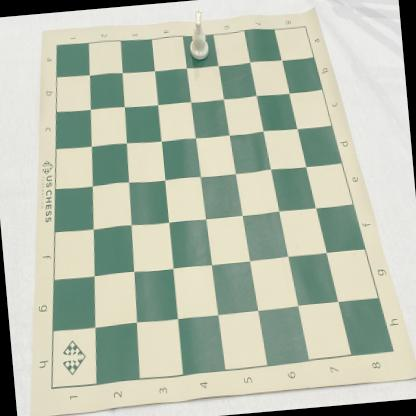knight: (186, 6, 211, 62)
